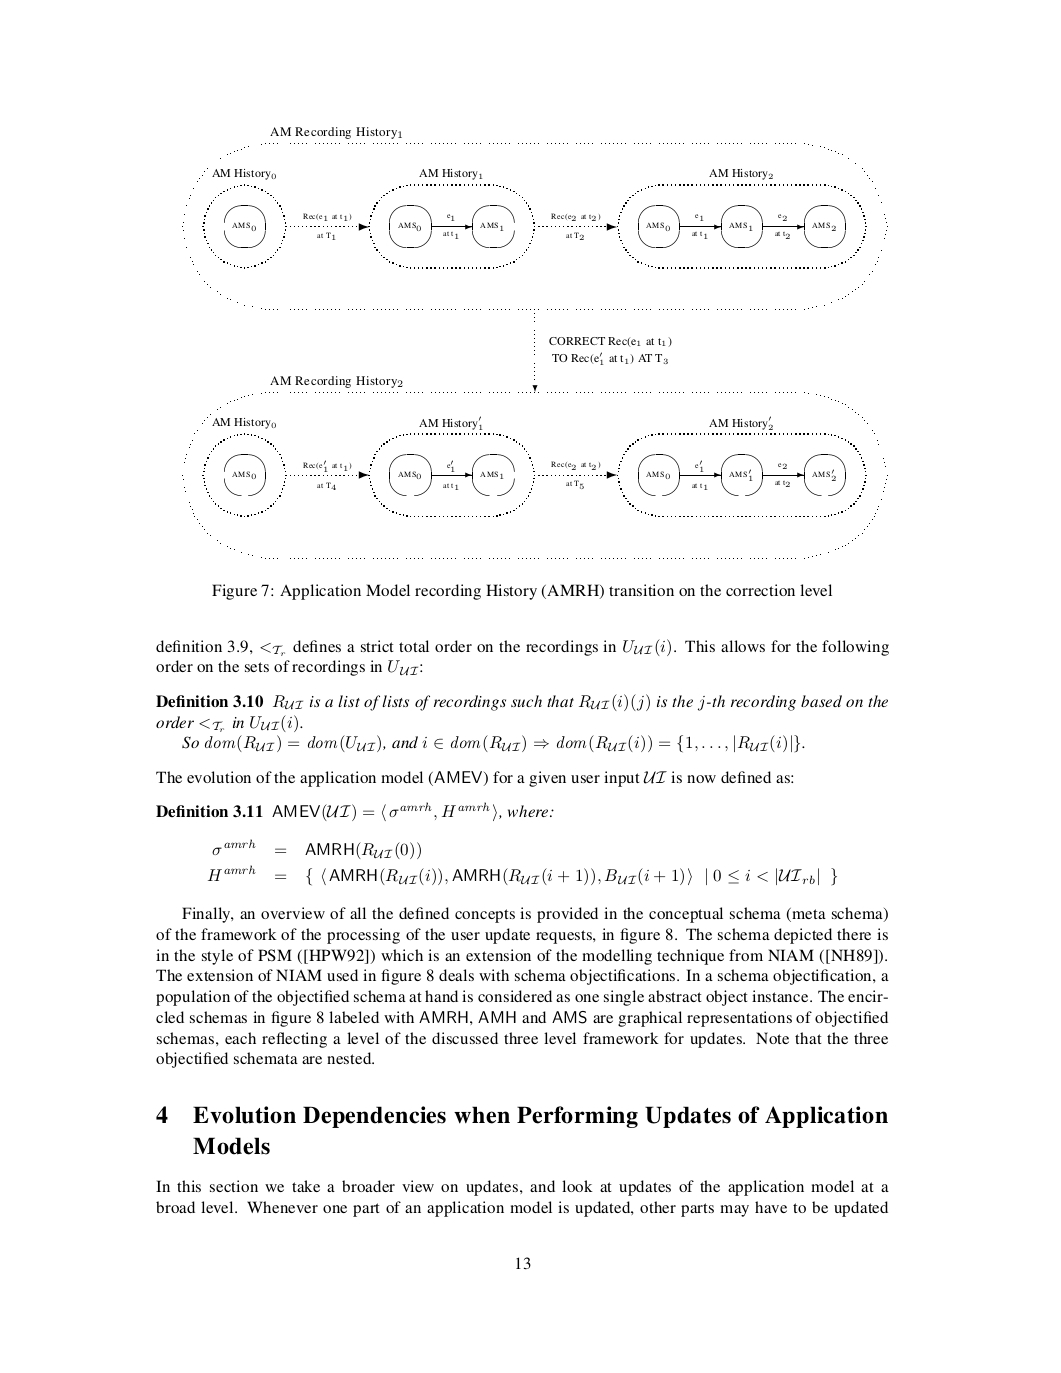figure: (182, 127, 887, 558)
formula: (207, 864, 836, 886), (182, 736, 804, 752), (212, 838, 420, 860)
